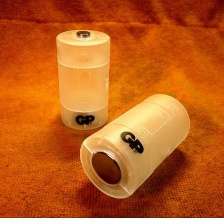battery: (80, 95, 193, 200), (54, 24, 113, 132)
